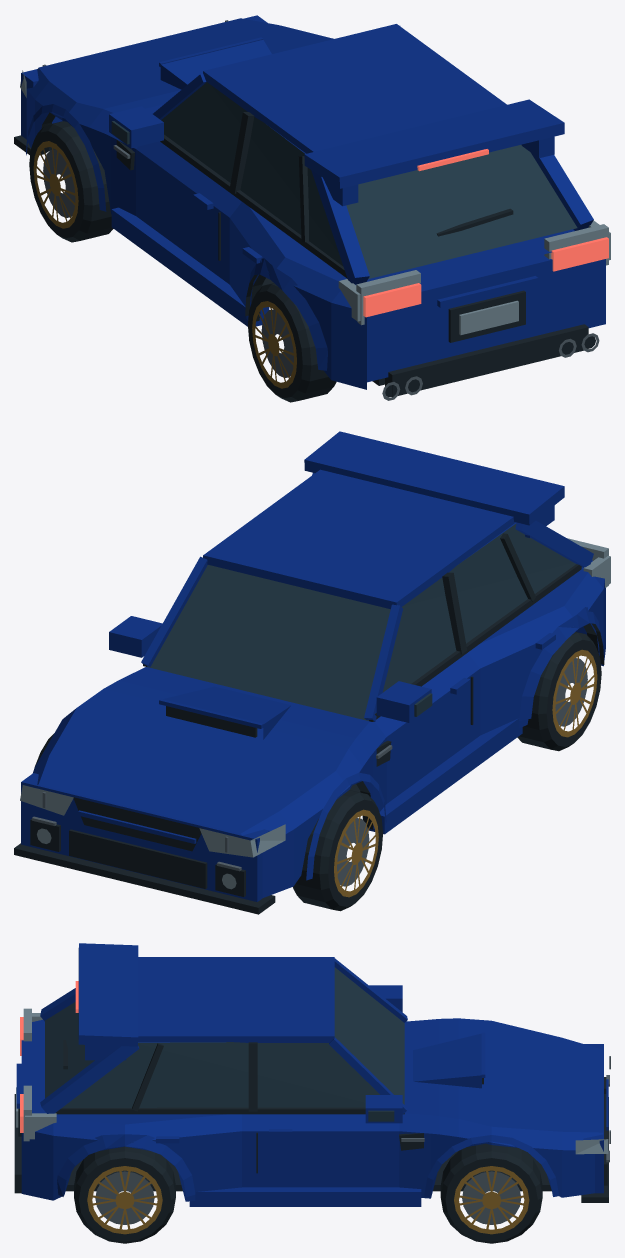
File: current_blue_rally_reference.glb
3 views of the same model, one above another, from view 1: azimuth 30°, elevation 25°; view 2: azimuth 150°, elevation 25°; view 3: azimuth 270°, elevation 25° (orthographic). The views are drawn at different scales.
Parts seen in each view (by area): view 1: RallyBluePaint, OpaqueGlass, DarkTrim, DarkTrim2, LampLens, DarkTrim3, GoldAlloy, GoldAlloy2, TailLampLeft, TailLampRight, SteelDetail2, SteelDetail3 (+1 smaller); view 2: RallyBluePaint, OpaqueGlass, DarkTrim, DarkTrim2, LampLens, DarkTrim3, GoldAlloy, GoldAlloy2, SteelDetail3, SteelDetail2; view 3: RallyBluePaint, OpaqueGlass, DarkTrim, DarkTrim4, DarkTrim5, GoldAlloy3, GoldAlloy4, SteelDetail4, SteelDetail5, LampLens.
Boxes of the visible parts, box(x1,y1,x2,y2) form: RallyBluePaint: box(21, 15, 605, 389); OpaqueGlass: box(111, 82, 577, 278); DarkTrim: box(14, 112, 595, 397); DarkTrim2: box(29, 121, 113, 242); LampLens: box(20, 70, 610, 335); DarkTrim3: box(248, 283, 336, 402); GoldAlloy: box(33, 141, 78, 228); GoldAlloy2: box(252, 301, 296, 388); TailLampLeft: box(363, 283, 421, 317); TailLampRight: box(551, 237, 608, 271); SteelDetail2: box(43, 149, 75, 217); SteelDetail3: box(261, 309, 293, 377); RallyBluePaint: box(21, 431, 605, 901); OpaqueGlass: box(147, 523, 575, 720); DarkTrim: box(14, 533, 604, 914); DarkTrim2: box(293, 790, 382, 911); LampLens: box(20, 538, 610, 889); DarkTrim3: box(517, 631, 601, 751); GoldAlloy: box(334, 809, 378, 897); GoldAlloy2: box(552, 649, 597, 737); SteelDetail3: box(555, 658, 587, 726); SteelDetail2: box(337, 818, 369, 886); RallyBluePaint: box(16, 943, 608, 1206); OpaqueGlass: box(45, 967, 404, 1121); DarkTrim: box(14, 1040, 608, 1202); DarkTrim4: box(440, 1143, 542, 1243); DarkTrim5: box(74, 1146, 175, 1243); GoldAlloy3: box(454, 1166, 529, 1234); GoldAlloy4: box(87, 1166, 162, 1234); SteelDetail4: box(462, 1171, 521, 1224); SteelDetail5: box(95, 1171, 154, 1224); LampLens: box(16, 1008, 608, 1154).
Size of the model in its own units: 2.17 by 1.57 by 4.33.
